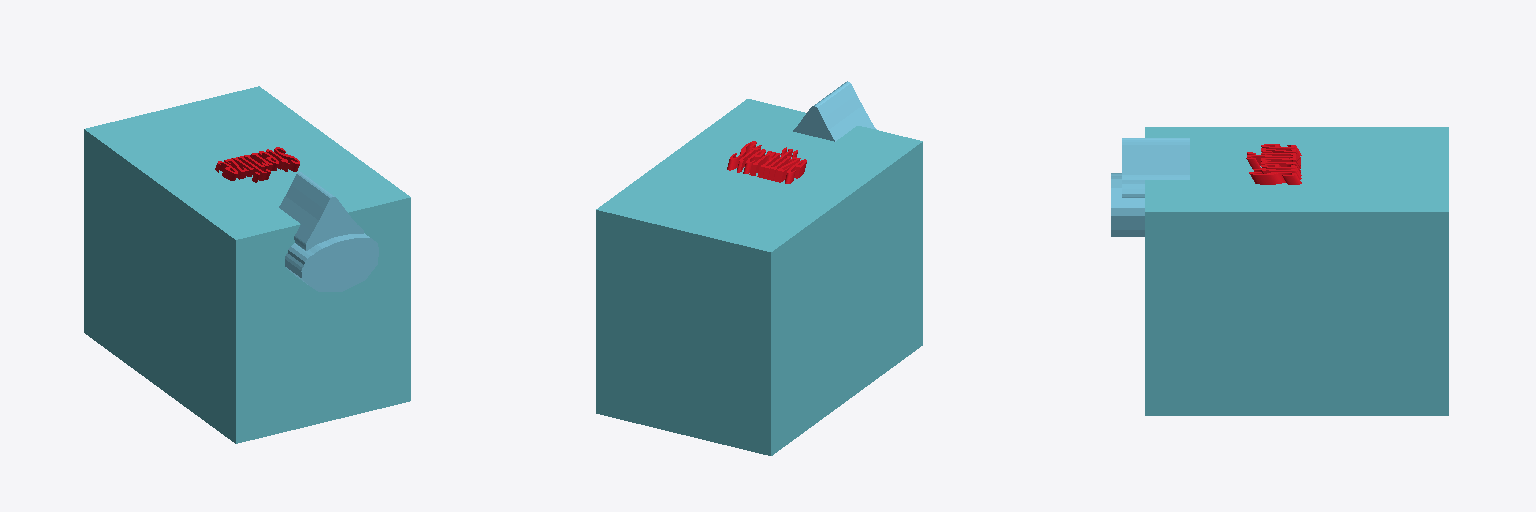
Rendered from sterilize.obj.
3 renders of one model, left to right at view 1: azimuth 30°, elevation 25°; view 2: azimuth 150°, elevation 25°; view 3: azimuth 270°, elevation 25°, orthographic.
Visible parts, largest first — view 1: obj_0; view 2: obj_0; view 3: obj_0.
Part boxes in pixels (x1,y1,x2,y2): obj_0: (84, 86, 410, 443); obj_0: (596, 81, 922, 455); obj_0: (1111, 127, 1448, 415).
Size of the model in its own units: 18 by 23 by 30.